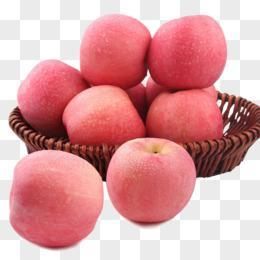apple: (10, 151, 104, 247), (105, 137, 196, 224), (147, 13, 227, 89), (79, 11, 152, 88), (16, 59, 87, 136), (63, 86, 145, 148), (146, 90, 224, 140)
